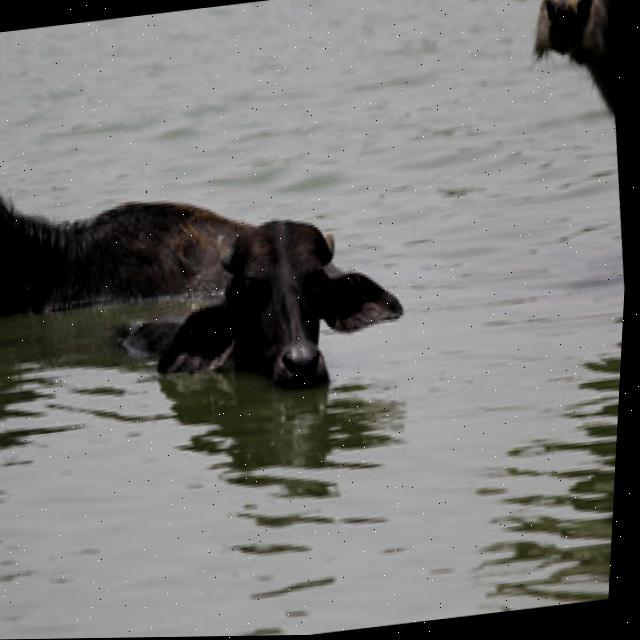Buffalo: (0, 77, 417, 417), (461, 0, 616, 87)
